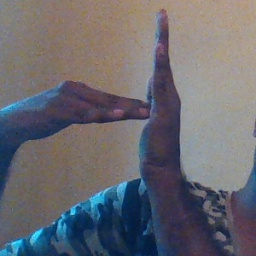Z: (83, 6, 194, 184)
